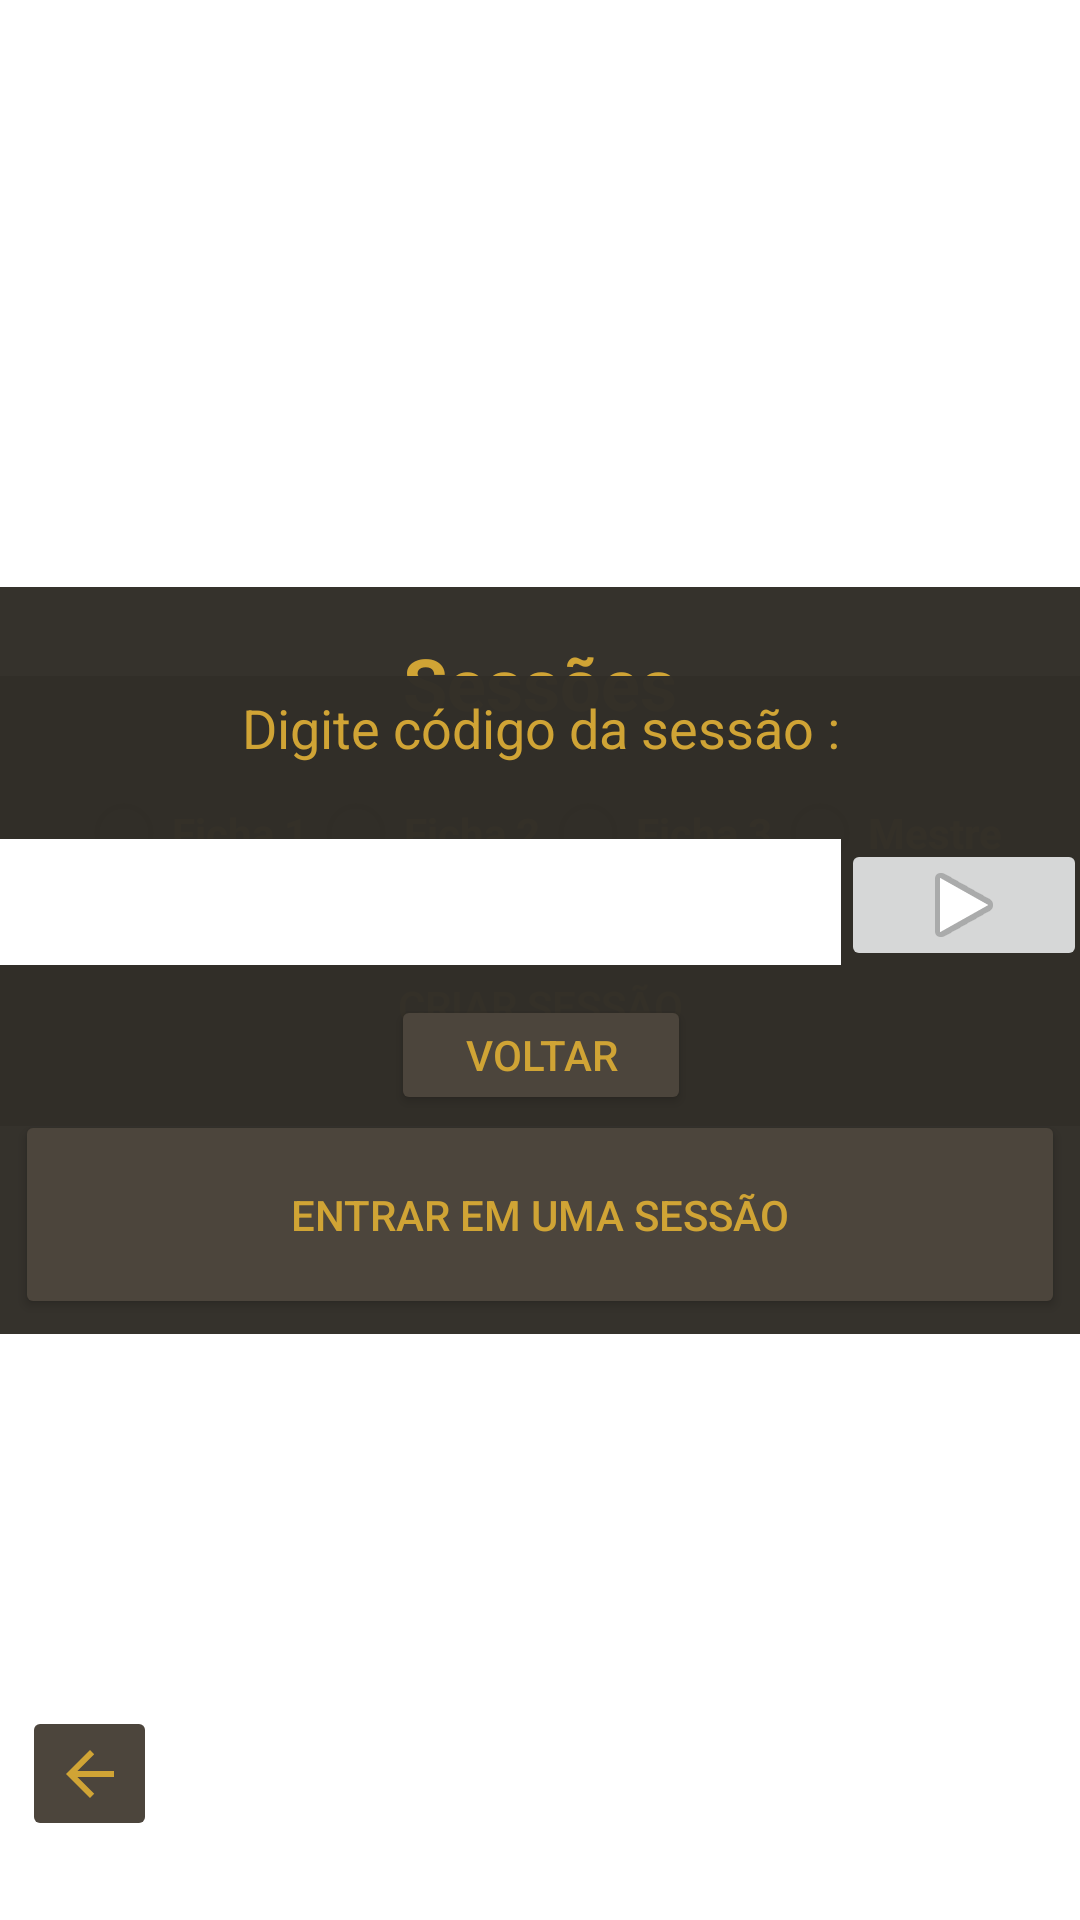

Icons on this 1080×1920 Android screen, each with its box as (x1=x1, y1=y1, x2=x2, y2=y2):
play: (x1=853, y1=857, x2=1075, y2=953)
